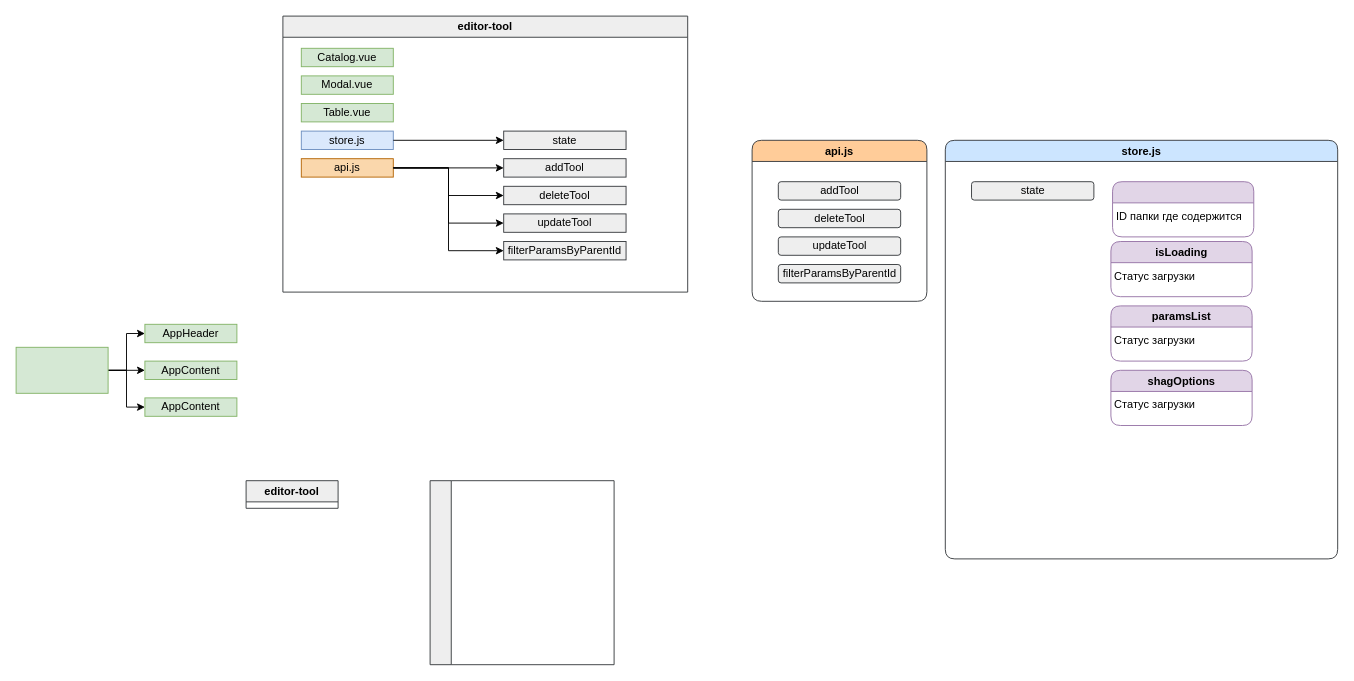
The diagram is 1354 pixels wide and 681 high, and some of its shapes have lost their labels. The box of each missing label's shape, as (x1, y1, x2, y2) in pixels:
APP: (15, 346, 108, 393)
Horizontal Container: (429, 480, 614, 665)
idParent: (1112, 181, 1254, 237)
